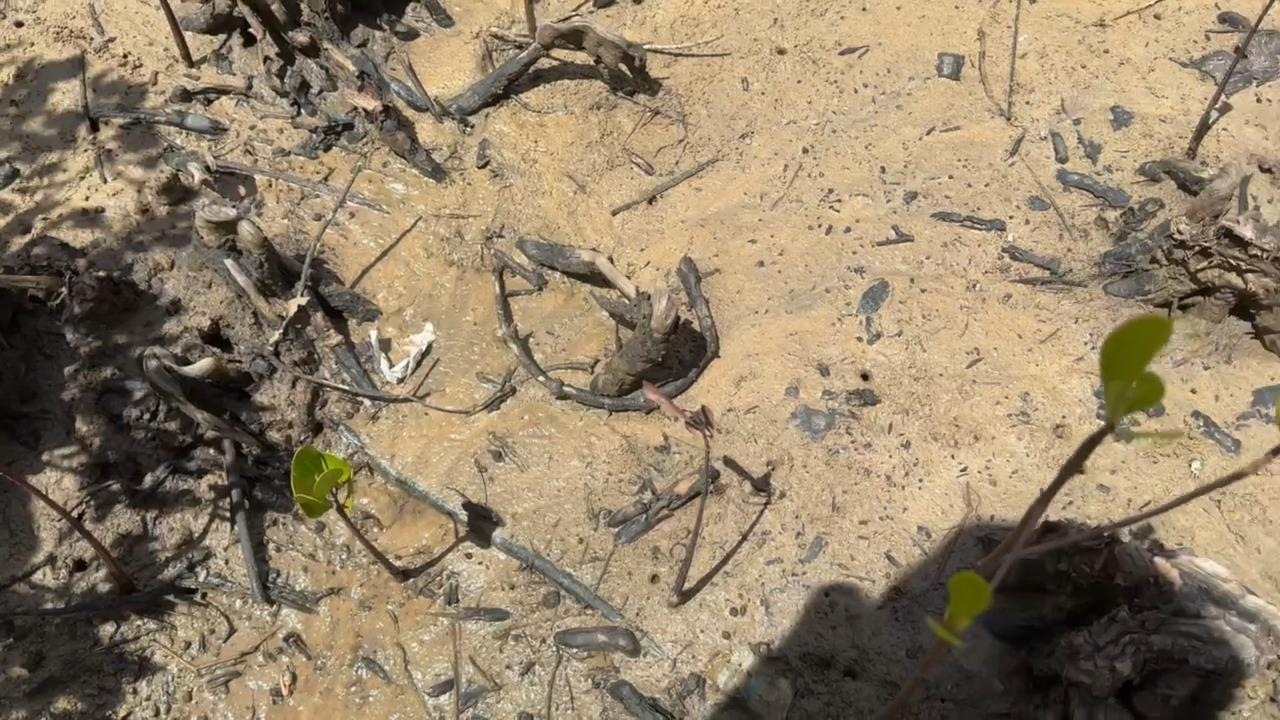Tree: (861, 311, 1280, 720), (640, 378, 715, 605), (290, 444, 402, 583)
